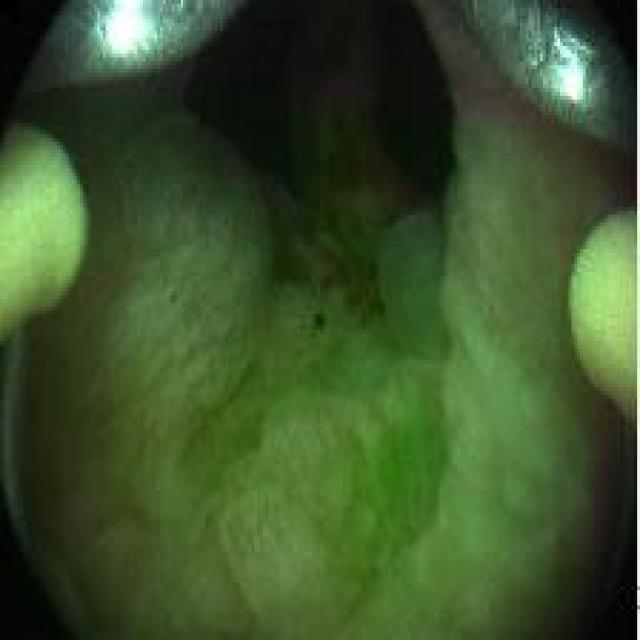color misalignment: (312, 312, 329, 331)
contrast: (192, 1, 469, 282), (7, 330, 133, 623)
instrument: (461, 4, 635, 155), (20, 2, 229, 98), (1, 117, 89, 328), (567, 200, 637, 425)
specularity: (92, 0, 157, 68), (549, 32, 588, 108)
